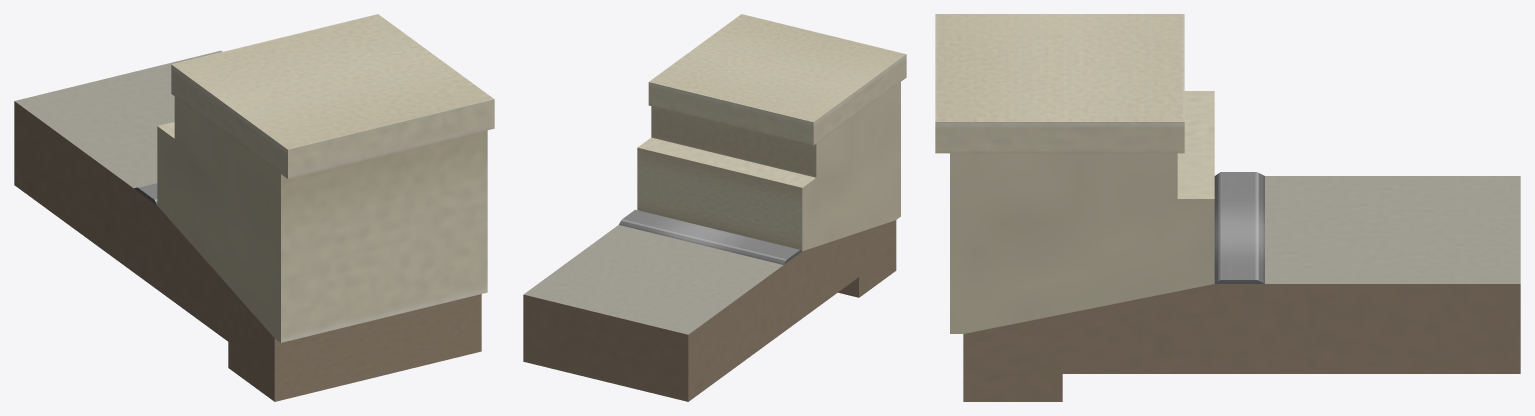
File: set_roof_outside_a03.fbx
3 views of the same model, side by side, from view 1: azimuth 30°, elevation 25°; view 2: azimuth 150°, elevation 25°; view 3: azimuth 270°, elevation 25° (orthographic). The views are drawn at different scales.
Parts seen in each view (by area): view 1: set_roof_outside_a03; view 2: set_roof_outside_a03; view 3: set_roof_outside_a03.
Part boxes in pixels (x1=…): set_roof_outside_a03: x1=14, y1=14, x2=494, y2=401; set_roof_outside_a03: x1=523, y1=14, x2=906, y2=401; set_roof_outside_a03: x1=935, y1=14, x2=1520, y2=401.
Size of the model in its own units: 100 by 121 by 229.
